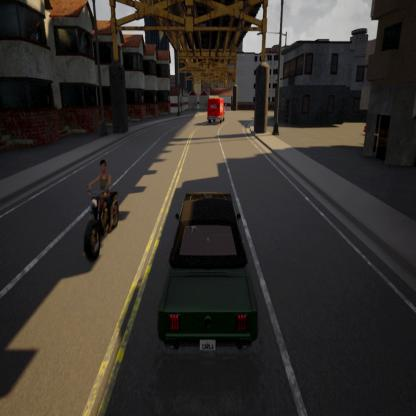Cars: (160, 164, 269, 414), (197, 82, 240, 160)
